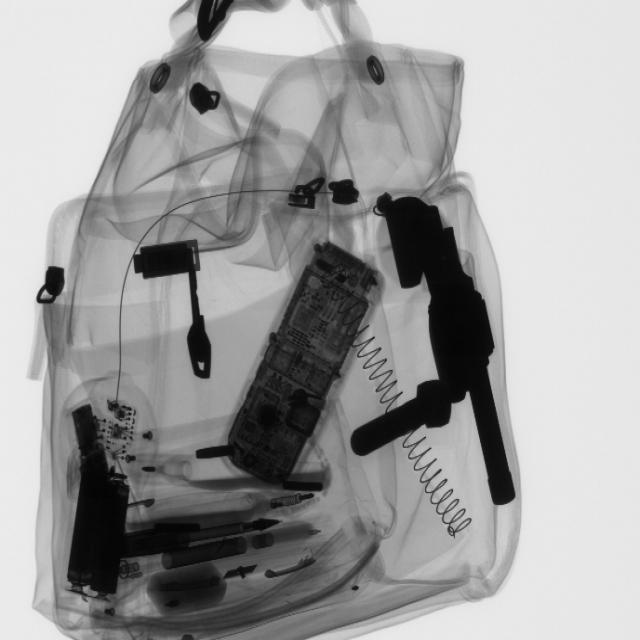GUN: (398, 196, 522, 513)
